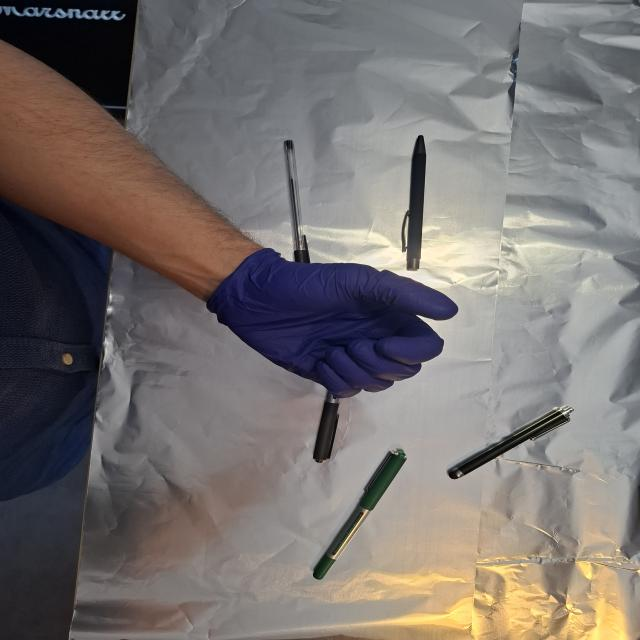glove_on: (208, 251, 462, 401)
